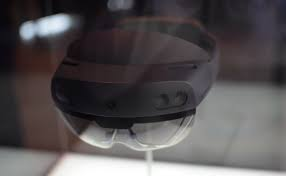hololens: (47, 37, 216, 151)
